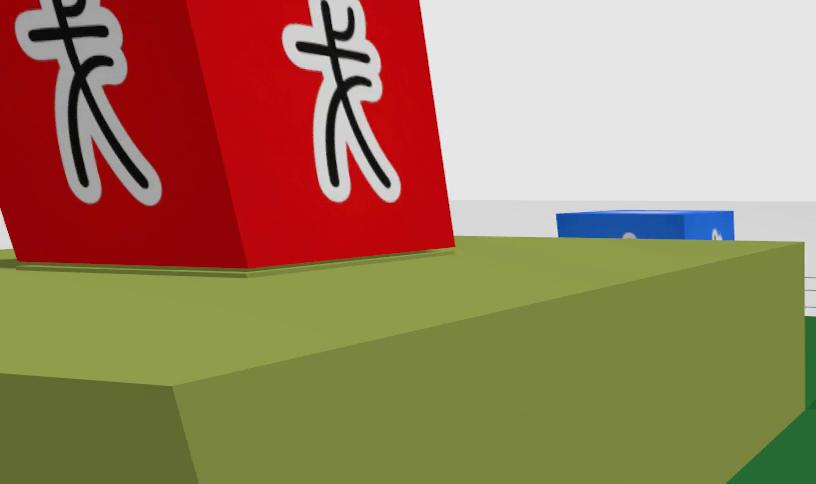KFS_FAKE: (0, 0, 451, 269), (15, 0, 162, 205), (282, 0, 401, 201)
